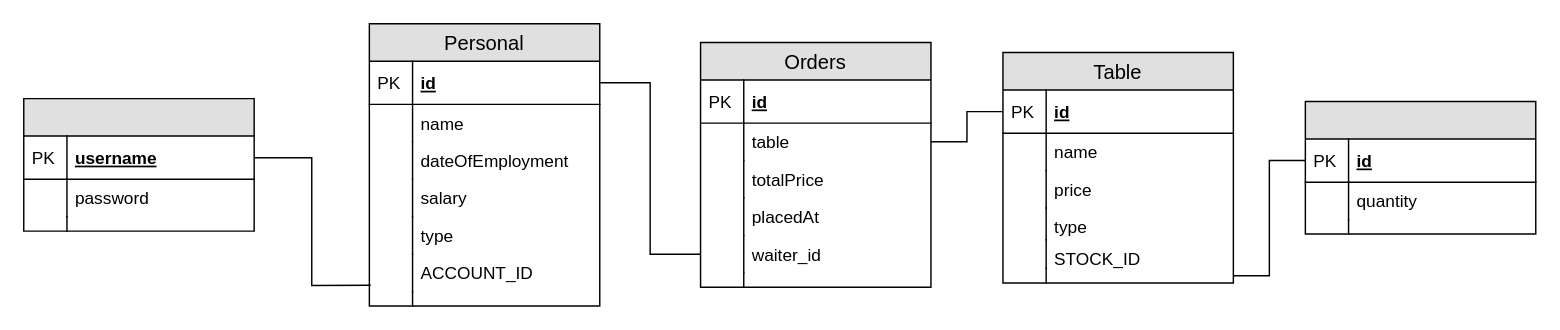
The diagram is 1560 pixels wide and 330 high, and some of its shapes have lost their labels. The box of each missing label's shape, as (x1, y1, x2, y2) in pixels:
Account: (22, 97, 254, 231)
Stock: (1304, 100, 1536, 234)
